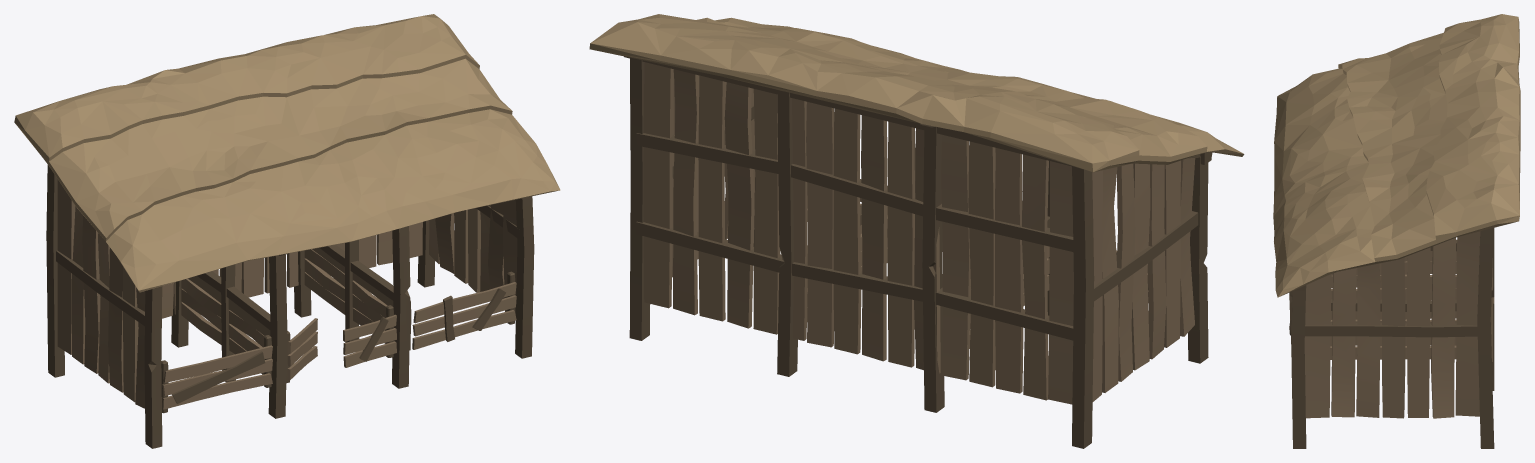
Rendered from stable_d.FBX.
3 renders of one model, left to right at view 1: azimuth 30°, elevation 25°; view 2: azimuth 150°, elevation 25°; view 3: azimuth 270°, elevation 25°, orthographic. The views are drawn at different scales.
Parts seen in each view (by area): view 1: stable_d; view 2: stable_d; view 3: stable_d.
Boxes of the visible parts, x1=… form: stable_d: x1=14, y1=14, x2=560, y2=448; stable_d: x1=589, y1=14, x2=1244, y2=448; stable_d: x1=1273, y1=14, x2=1520, y2=448.
Bounding box in the file's own units: 10.65 × 6.45 × 5.56.
